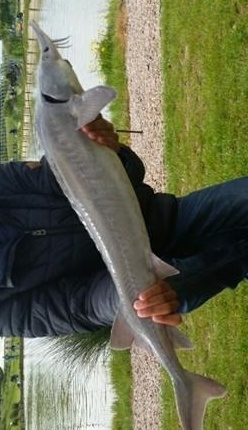Acipenseridae: (20, 20, 228, 430)
